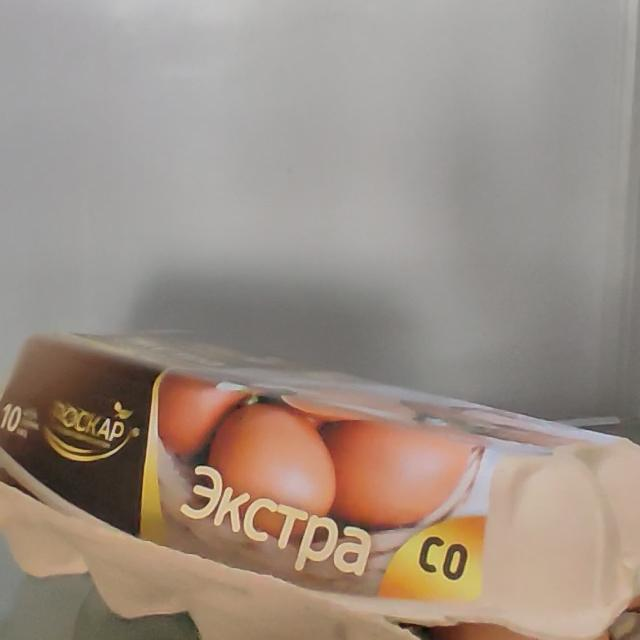egg: (0, 306, 640, 640)
